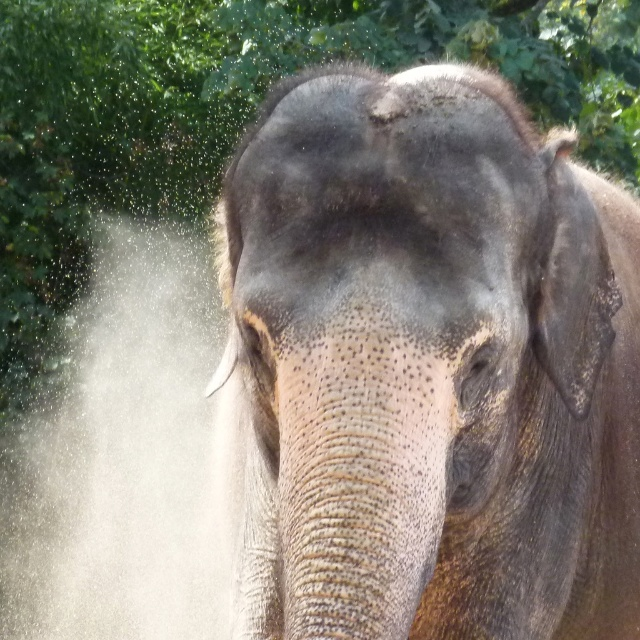Elephant: (200, 60, 640, 640)
